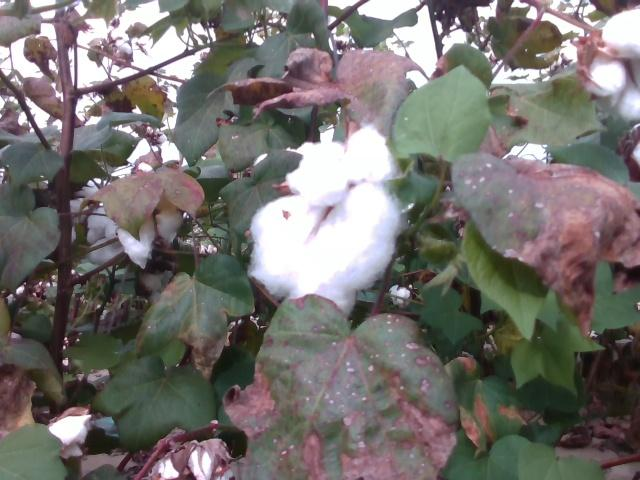cotton_ready: (252, 127, 401, 311)
